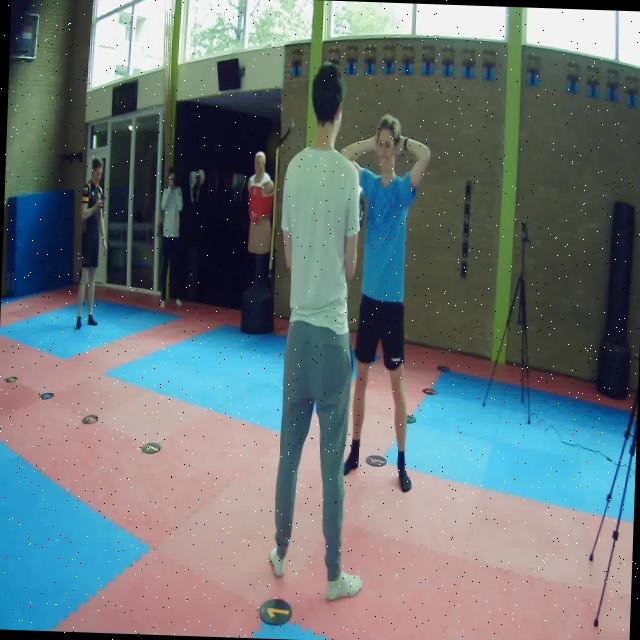paddle: (359, 185, 365, 232)
